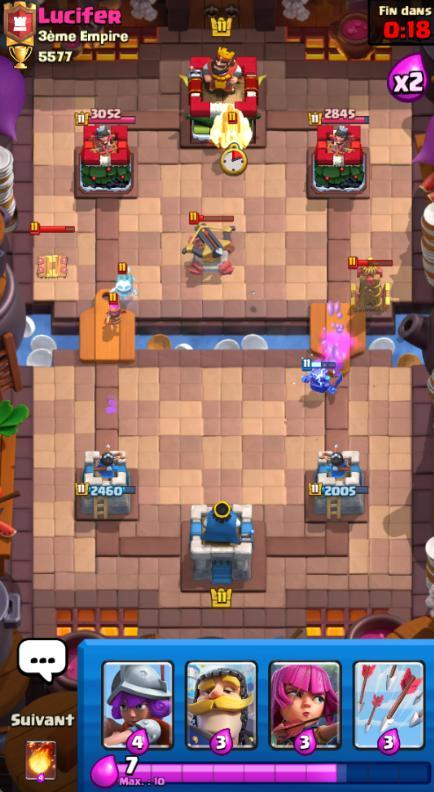enemy_archers: (97, 293, 130, 336)
enemy_ice_spirit: (110, 261, 141, 306)
enemy_tesla: (345, 253, 399, 318), (29, 219, 82, 285)
enemy_xbow: (177, 211, 239, 280)
player_mini_pekka: (298, 357, 343, 398)
